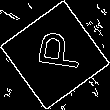P_W: (27, 33, 83, 77)
